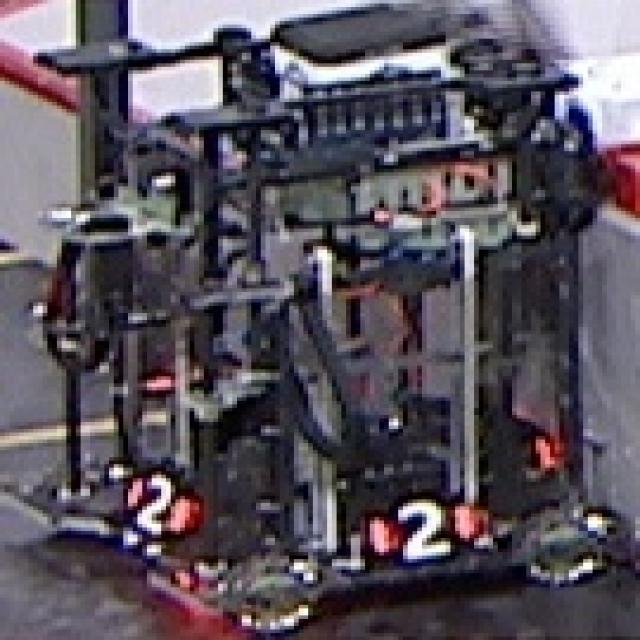R2: (360, 489, 479, 559), (109, 468, 199, 538)
